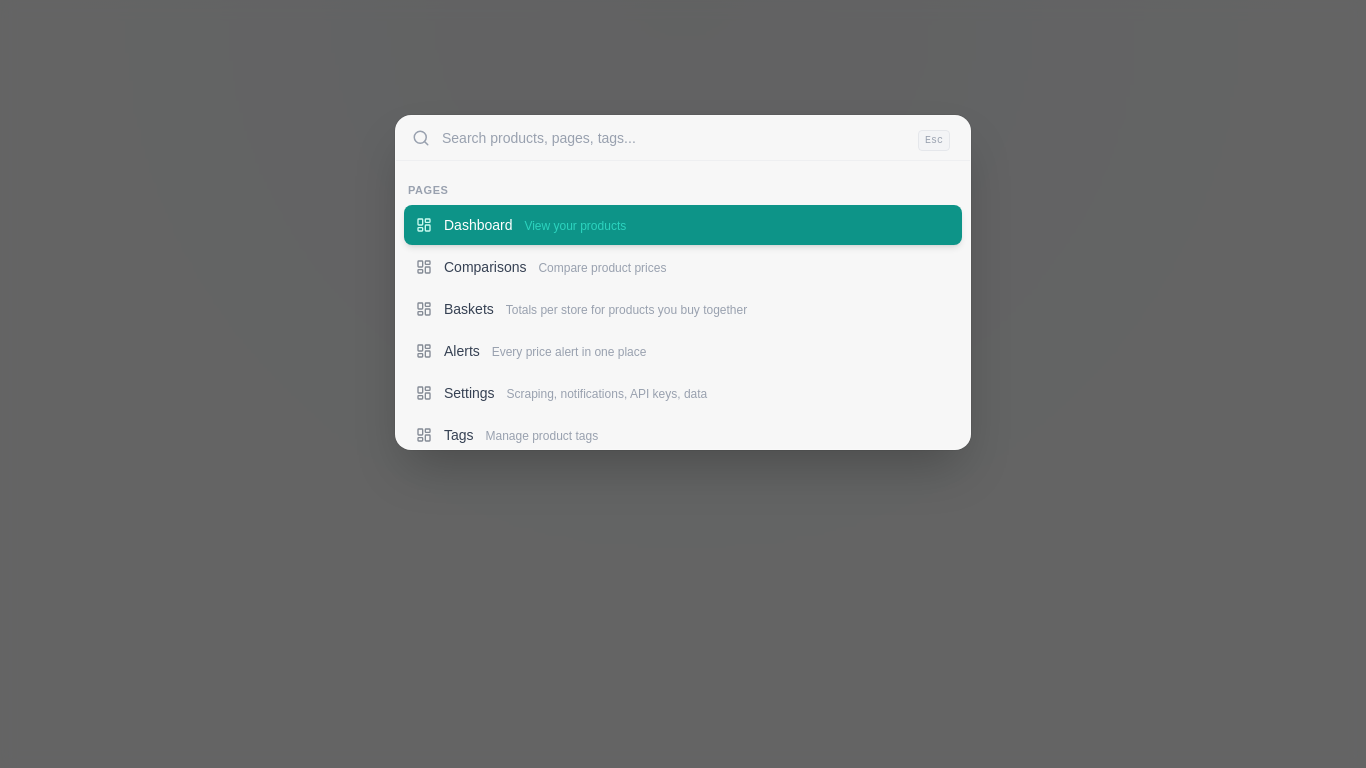
Test: CommandPalette › filtering › should filter navigation items by search query
In the field with placeholder "Search products, pages, tags...": {"x": 672, "y": 138} [442,116,902,160], type "dash"
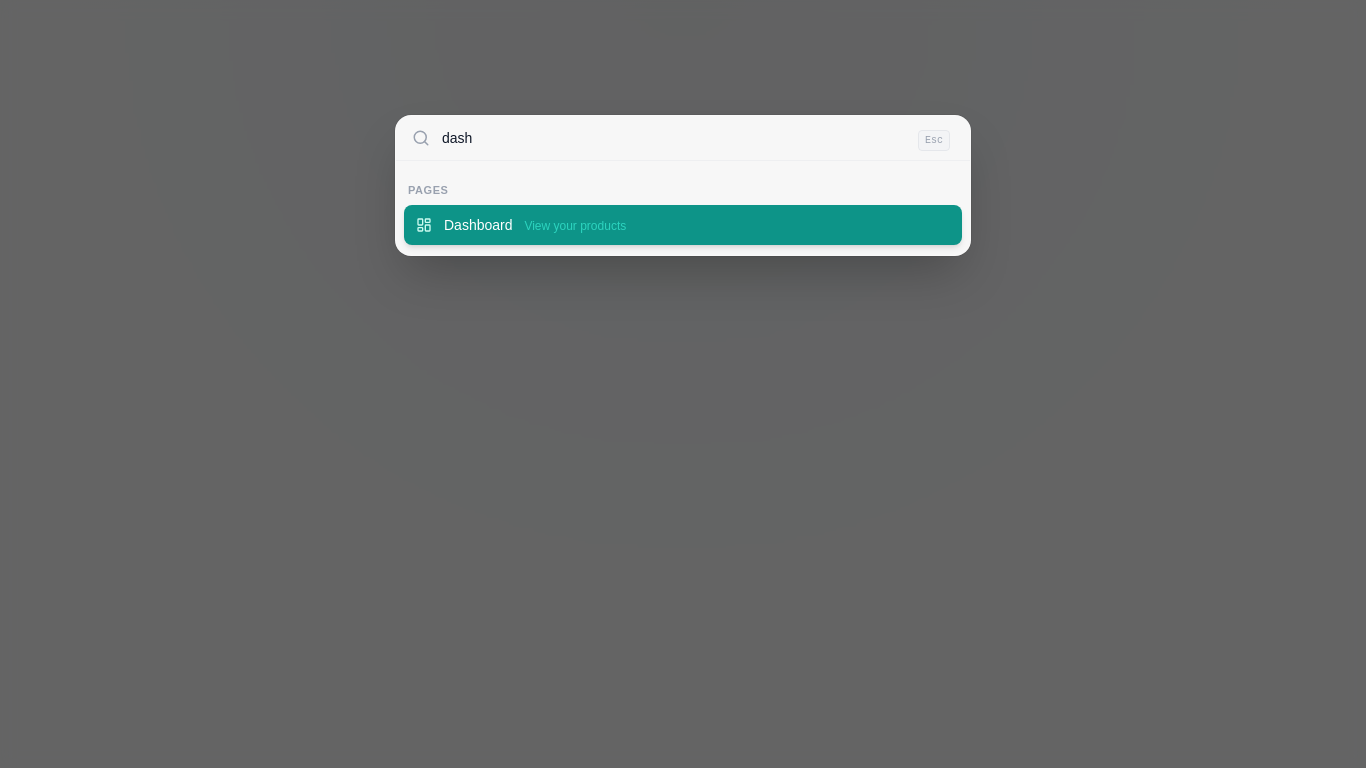
Check: the text "Dashboard" is shown, box [444,217,512,233]
Check: the option "Comparisons" is gone
